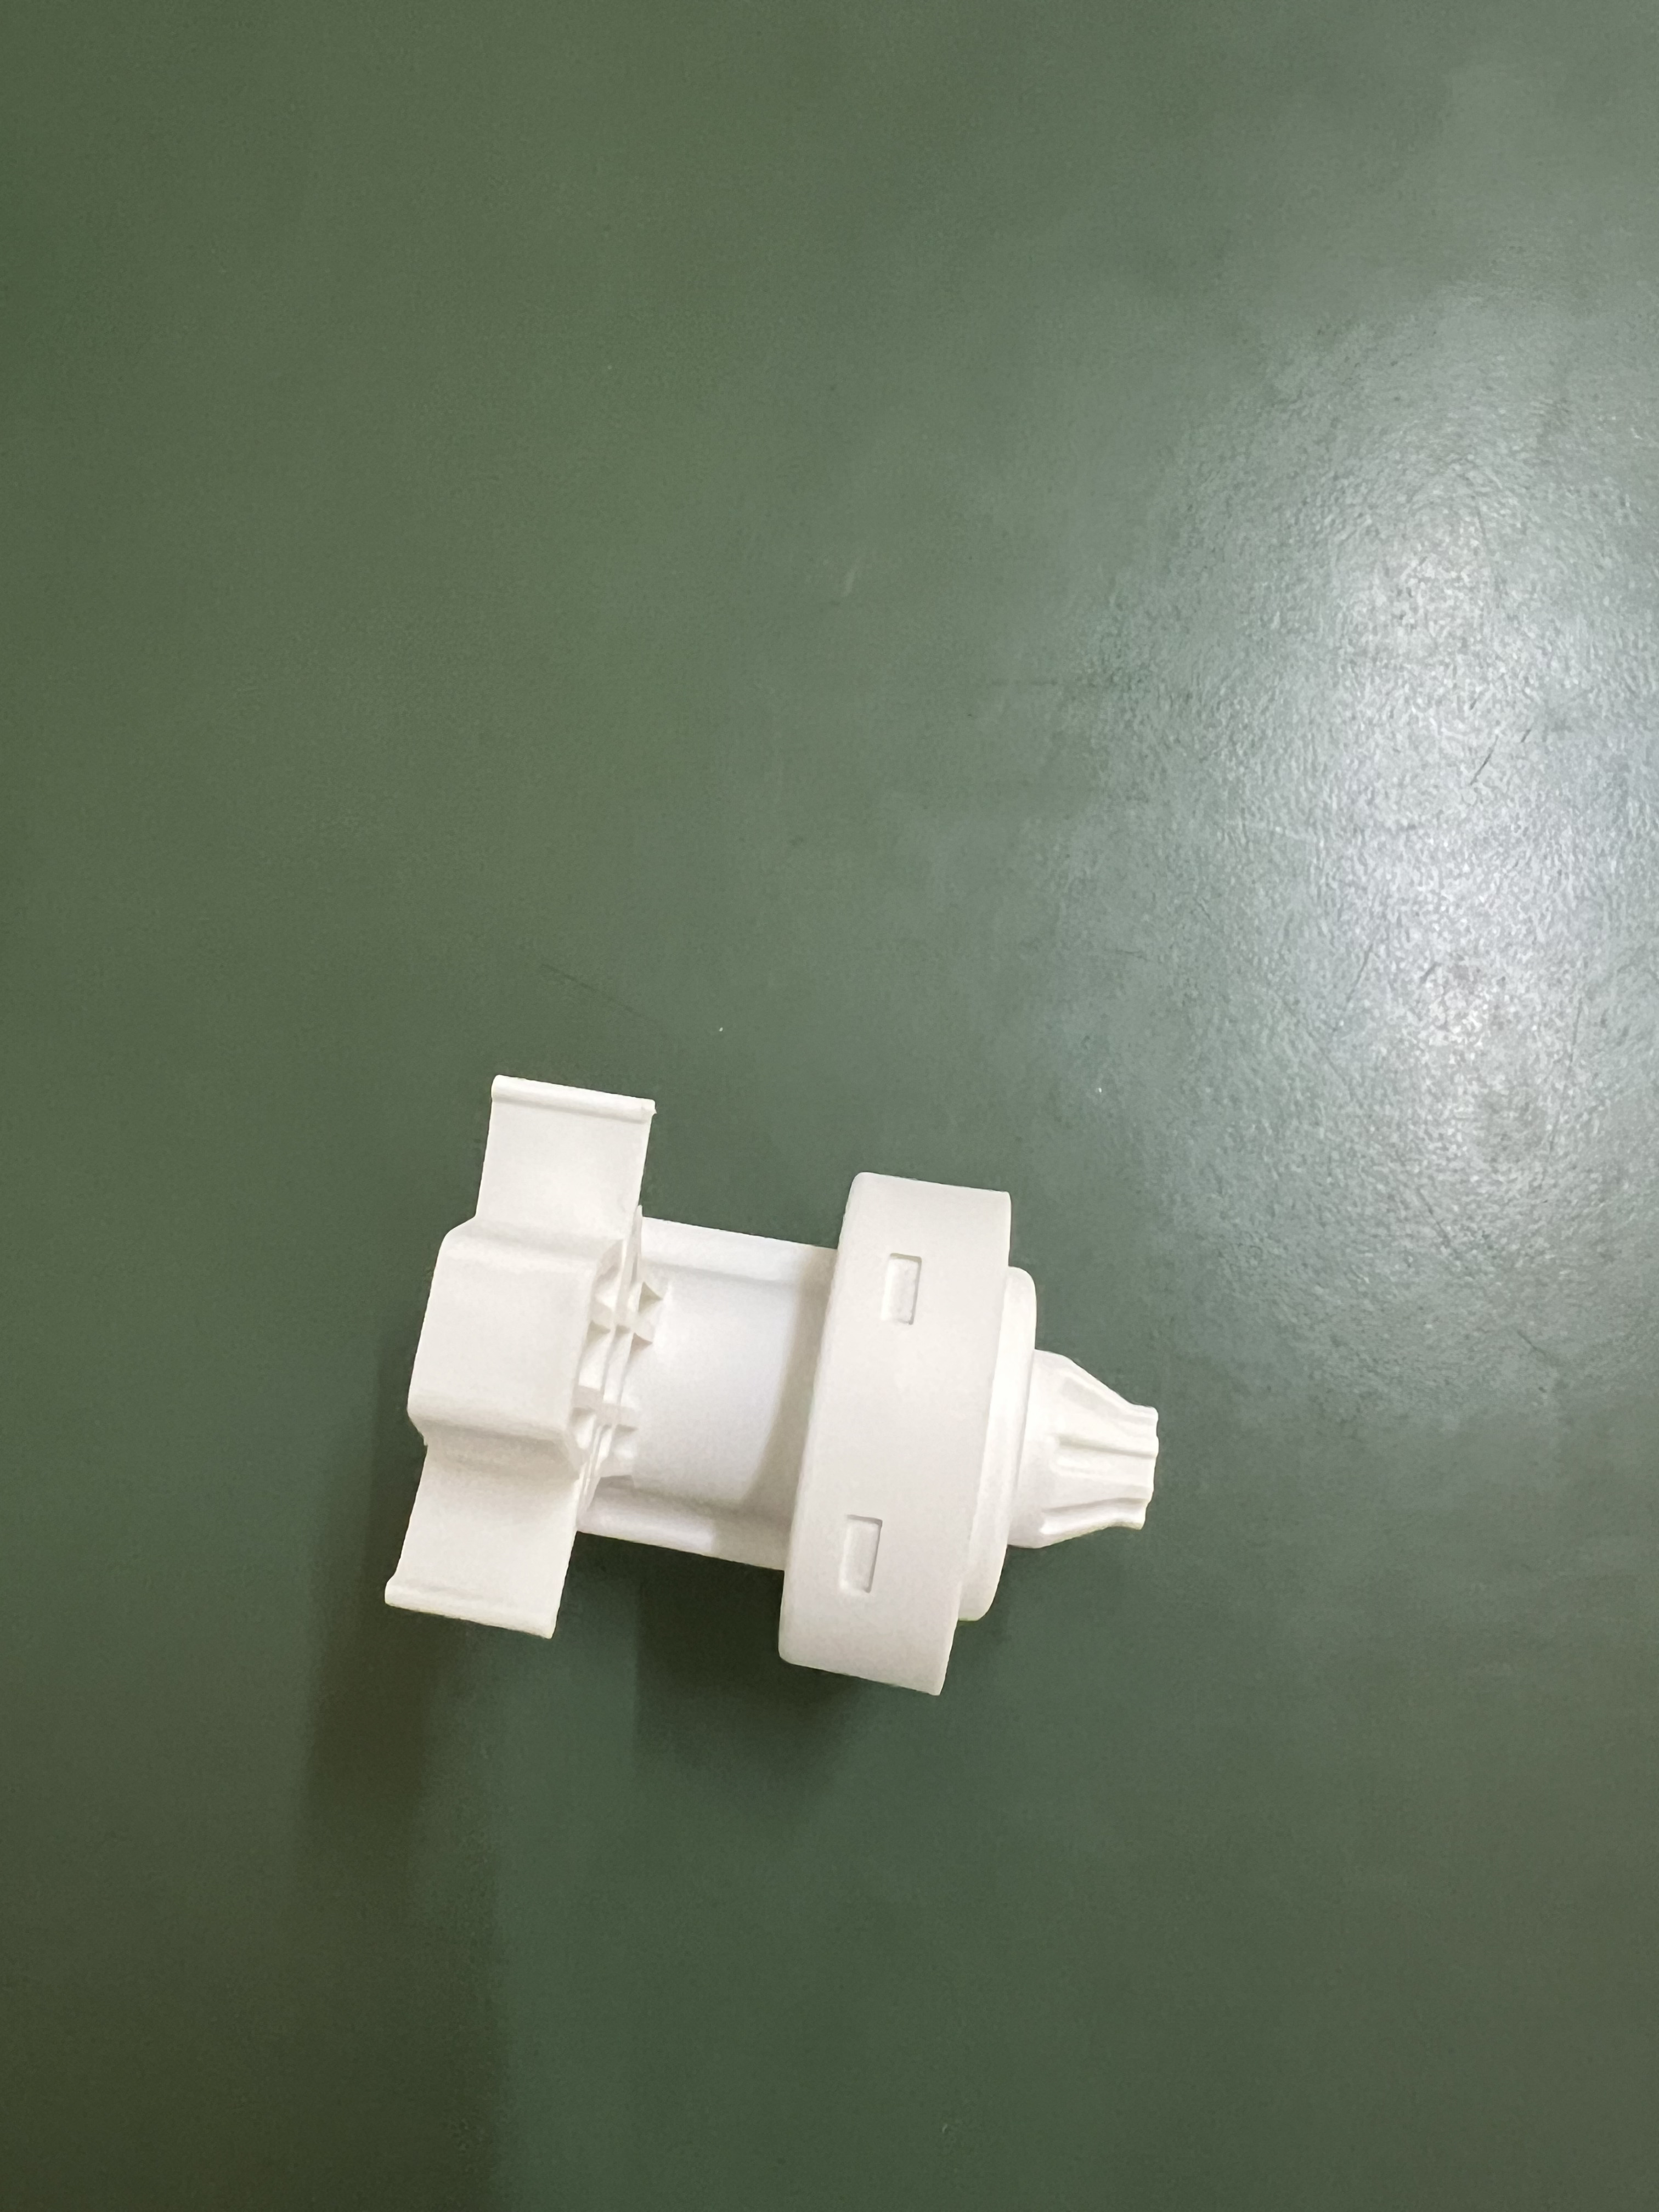pressure_switch_1: (381, 1045, 1183, 1735)
